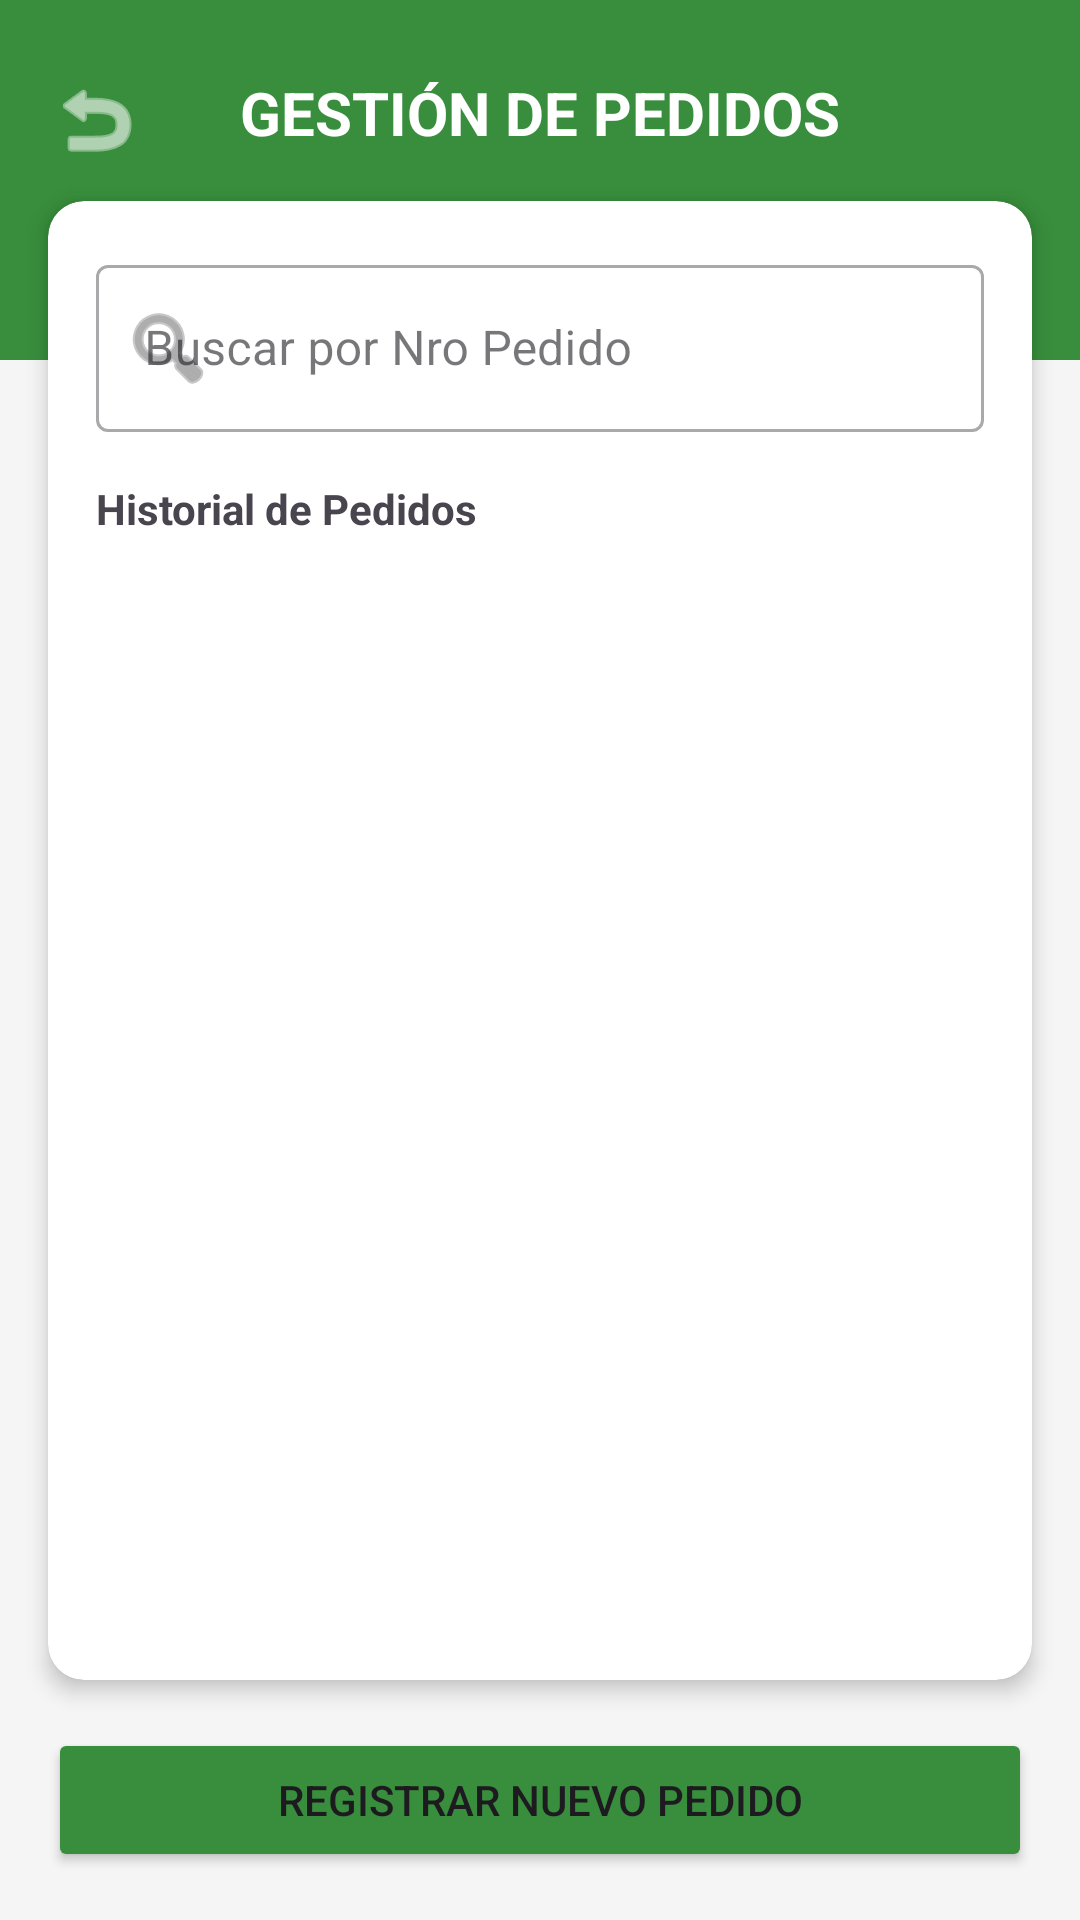

Point at icon controls on the screen. Image size 1080×1920, points as (x,y).
revert: (97,120)
